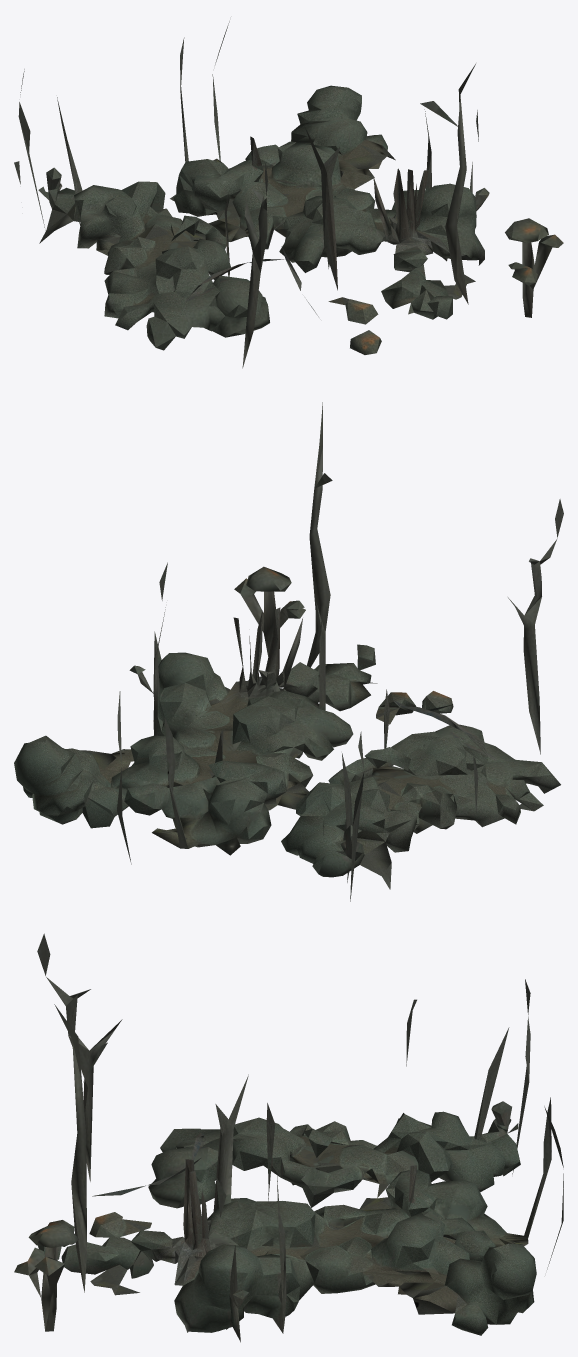
Rendered from Meshy_AI_Trees_are_sparse_thi_0822235231_texture.obj.
3 views of the same model, one above another, from view 1: azimuth 30°, elevation 25°; view 2: azimuth 150°, elevation 25°; view 3: azimuth 270°, elevation 25° (orthographic). The views are drawn at different scales.
Visible parts, largest first — view 1: Meshy_AI_Trees_are_sparse_thi_0822235231_texture; view 2: Meshy_AI_Trees_are_sparse_thi_0822235231_texture; view 3: Meshy_AI_Trees_are_sparse_thi_0822235231_texture.
Boxes of the visible parts, <box> form: Meshy_AI_Trees_are_sparse_thi_0822235231_texture: <box>14,21,563,368</box>; Meshy_AI_Trees_are_sparse_thi_0822235231_texture: <box>14,402,563,901</box>; Meshy_AI_Trees_are_sparse_thi_0822235231_texture: <box>14,933,563,1342</box>.
Size of the model in its own units: 1.68 by 1.09 by 1.78.
